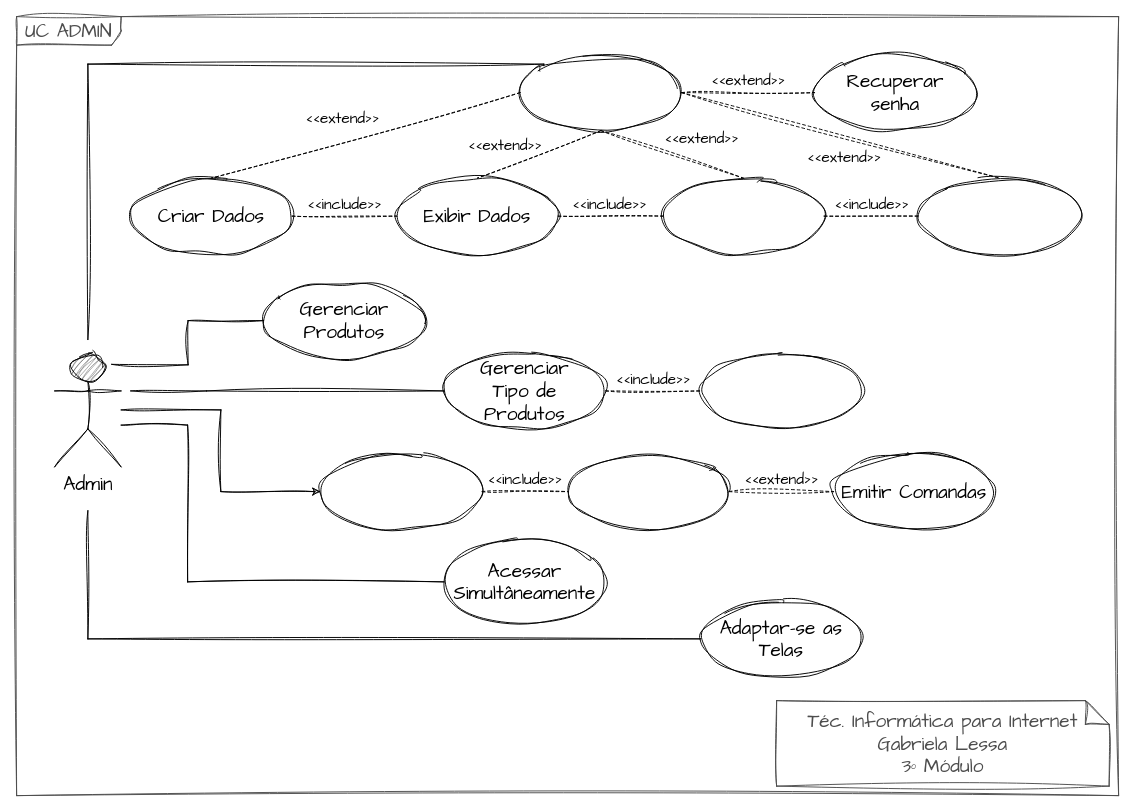
This 1135x812 diagram has some shape labels left out. The centre of each missing label's shape, as x and y in pixels:
Alterar estado do Pedido: the point at 648,491
Atualizar Dados: the point at 743,215
Buscar TipoProduto: the point at 781,390
Fazer Cadastro: the point at 600,92
Gerenciar Pedidos: the point at 401,491
Remover Dados: the point at 999,215
